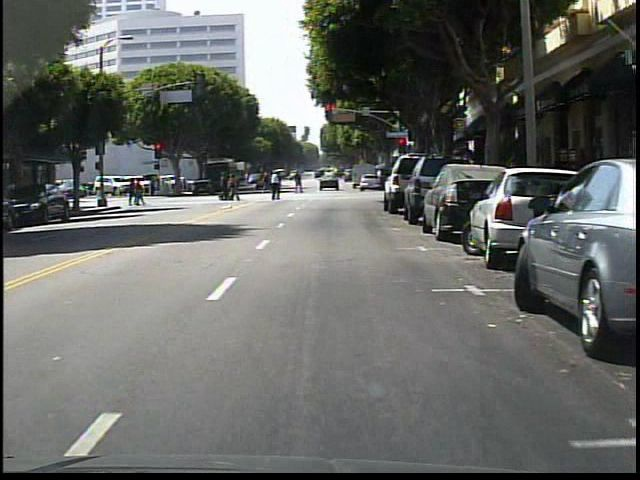person: (264, 168, 286, 206), (290, 168, 307, 198)
